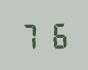seven: (19, 20, 43, 50)
six: (44, 19, 68, 49)
